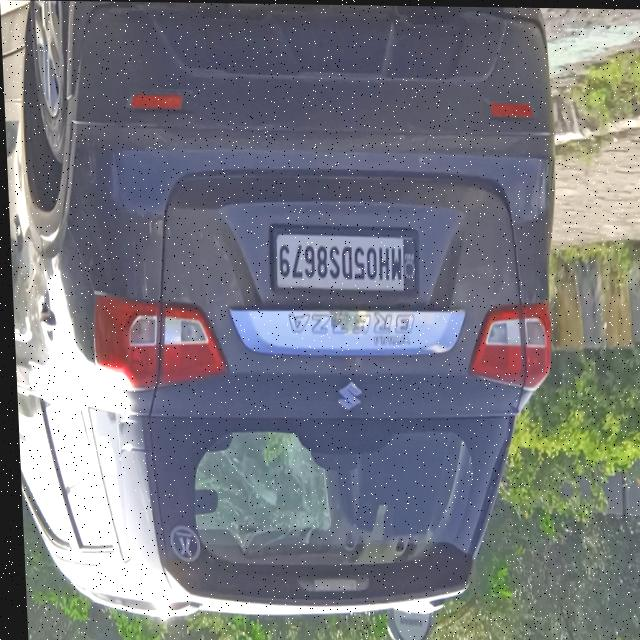plate: (265, 221, 420, 300)
